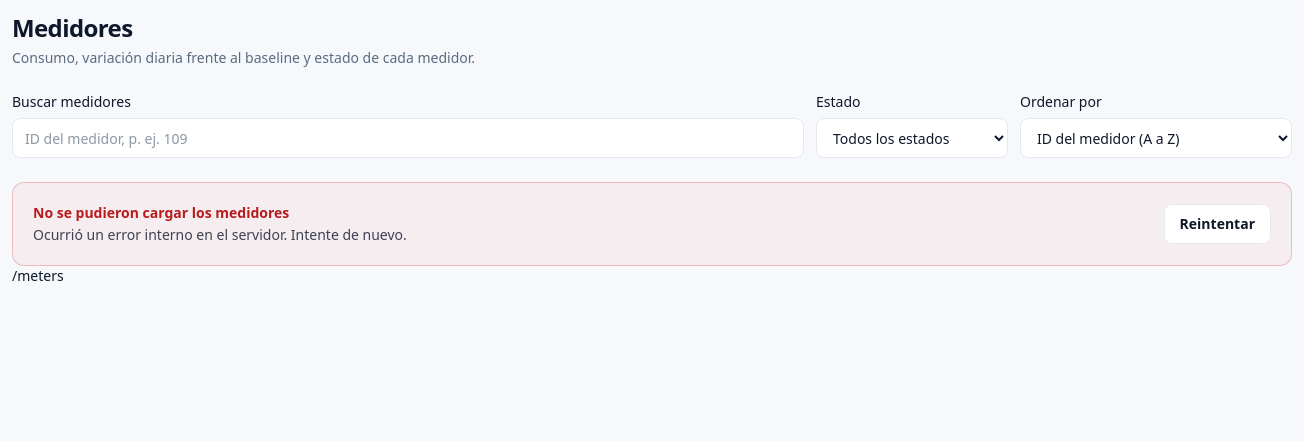
Test: MetersPage › shows the error and recovers on retry
Expected: the message shows "Ocurrió un error interno en el servidor", [33,225,407,244]
Click the button "Reintentar" at (1217, 224), box [1164,204,1271,244]
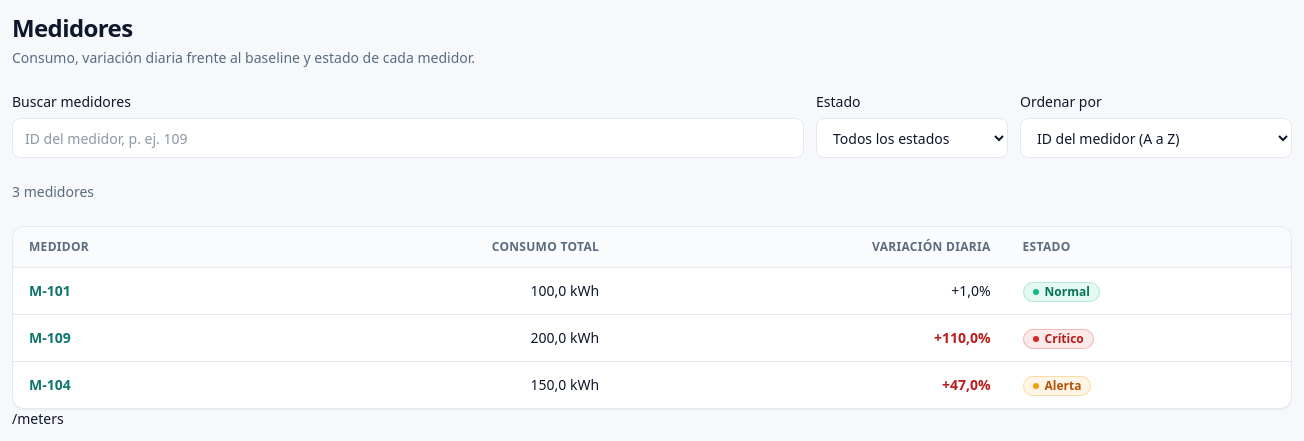
Now the link "M-101" is shown, box [29,281,71,300]
